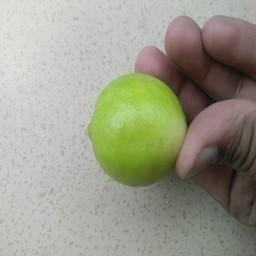Good_lime: (87, 69, 188, 188)
